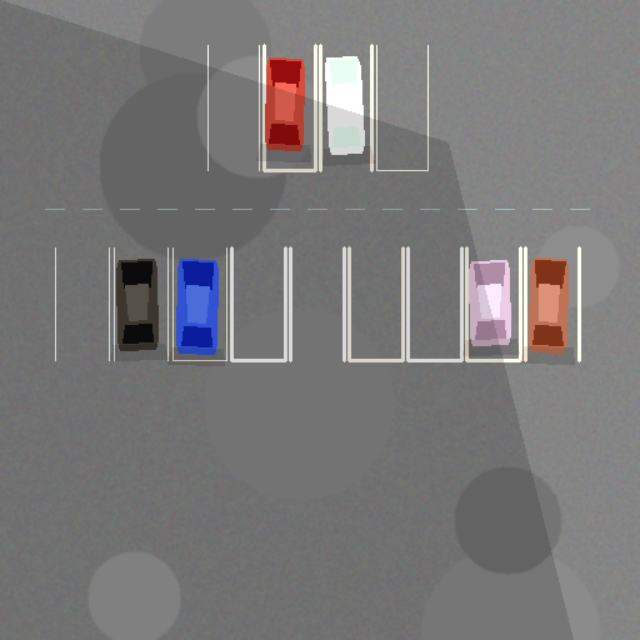space-empty: (376, 45, 428, 170), (208, 45, 259, 170), (55, 247, 109, 360), (231, 247, 285, 360), (290, 247, 344, 360), (349, 247, 402, 360), (408, 247, 461, 360)
space-occupied: (264, 45, 315, 170), (320, 45, 371, 170), (114, 247, 168, 360), (172, 247, 226, 360), (466, 247, 520, 360), (525, 247, 579, 360)
